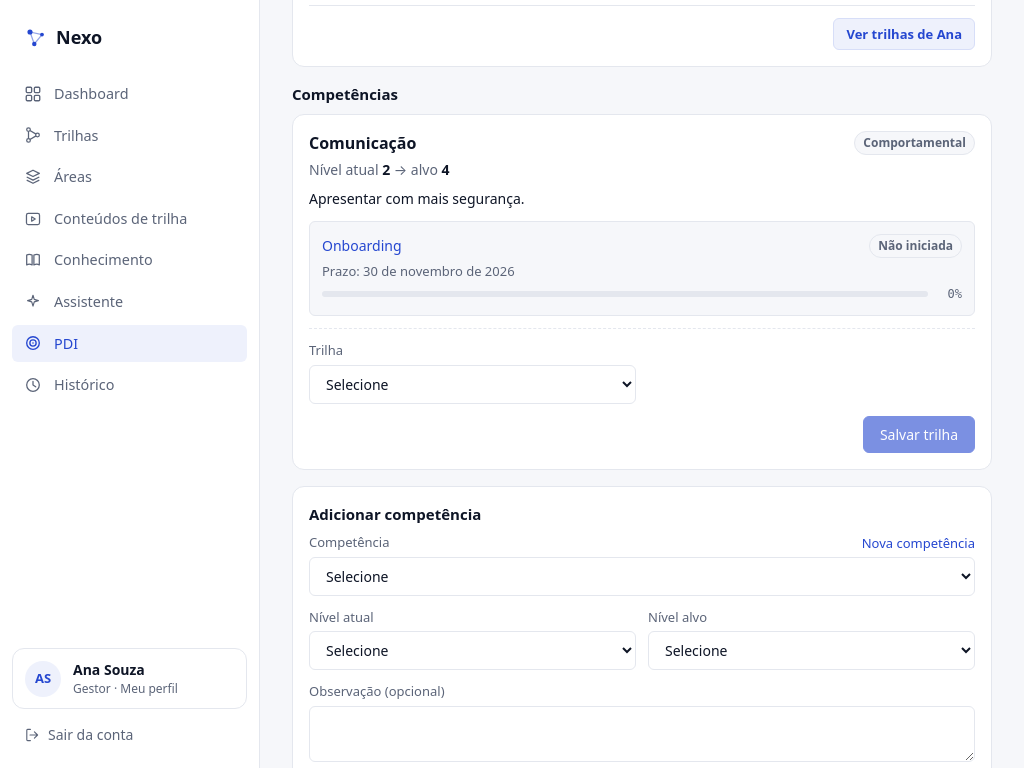
Scenario: PdiEditorPage › liga uma trilha à competência e salva, sem pedir prazo
(page scrolled)
Expected: the button "Salvar trilha" is disabled, [863,416,975,452]
Select "Vendas" in the dropdown labelled "Trilha" at [472, 384], box [309,364,636,404]
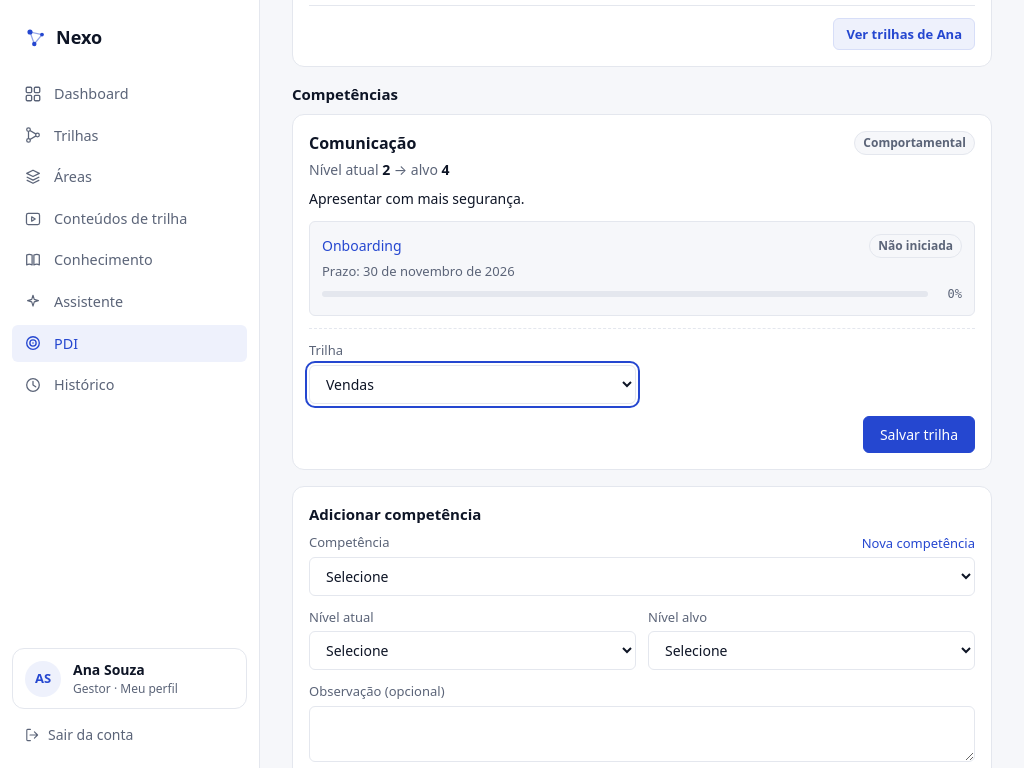
Now the button "Salvar trilha" is enabled
Click the button "Salvar trilha" at [919, 434], box [863,416,975,452]
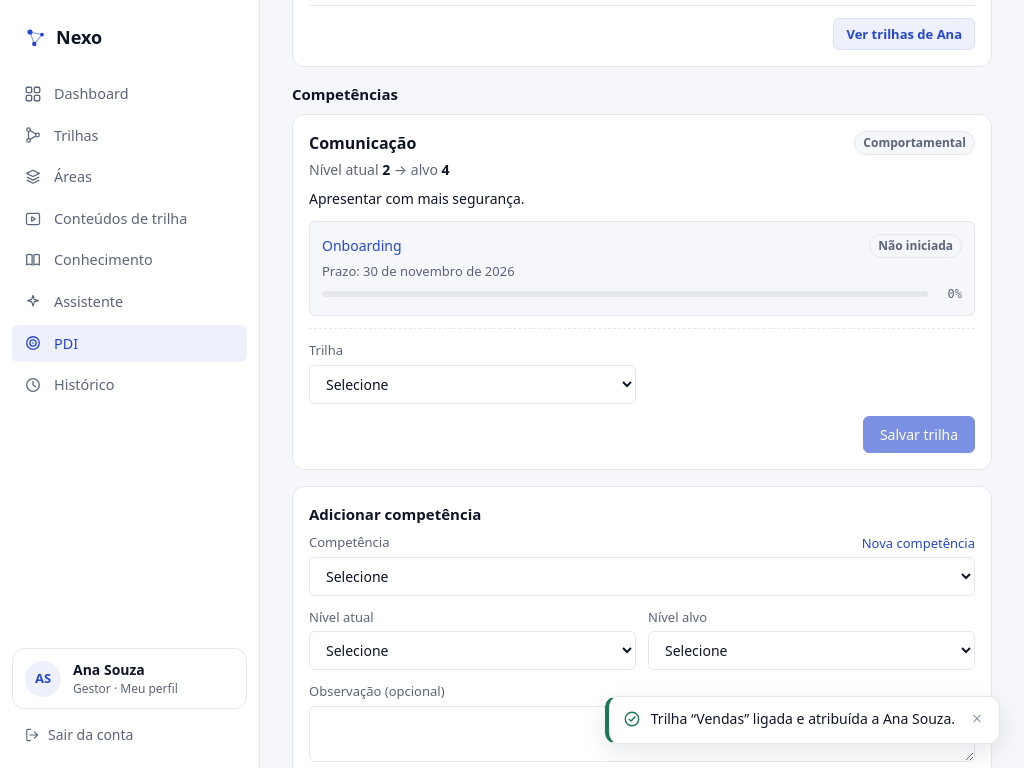
Now the text "Trilha “Vendas” ligada e atribuída a Ana Souza." is shown, box [651,709,955,729]
